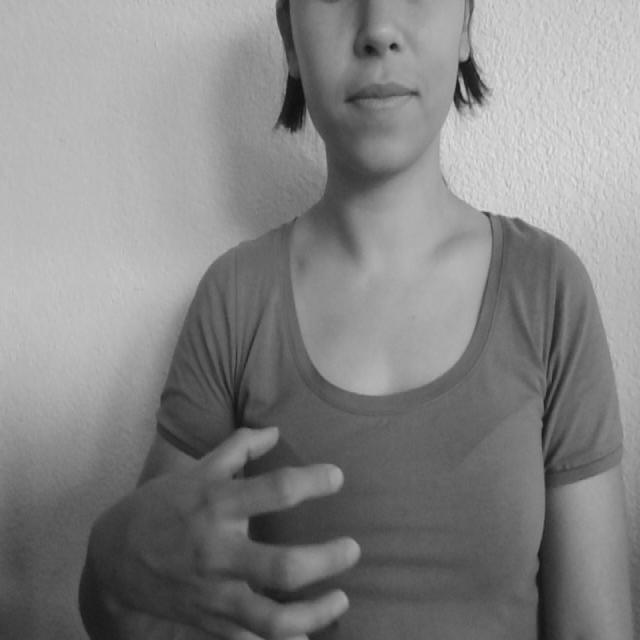Anne: (129, 397, 542, 640)
